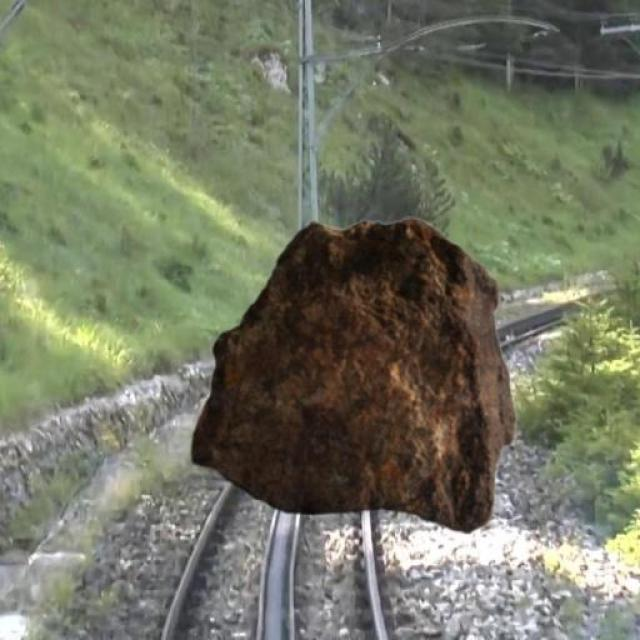Stone: (190, 215, 514, 534)
